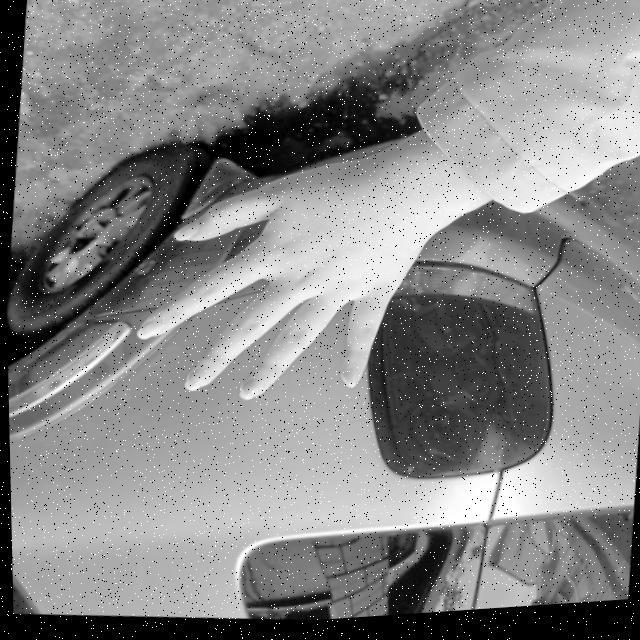no-gloves: (124, 130, 436, 425)
